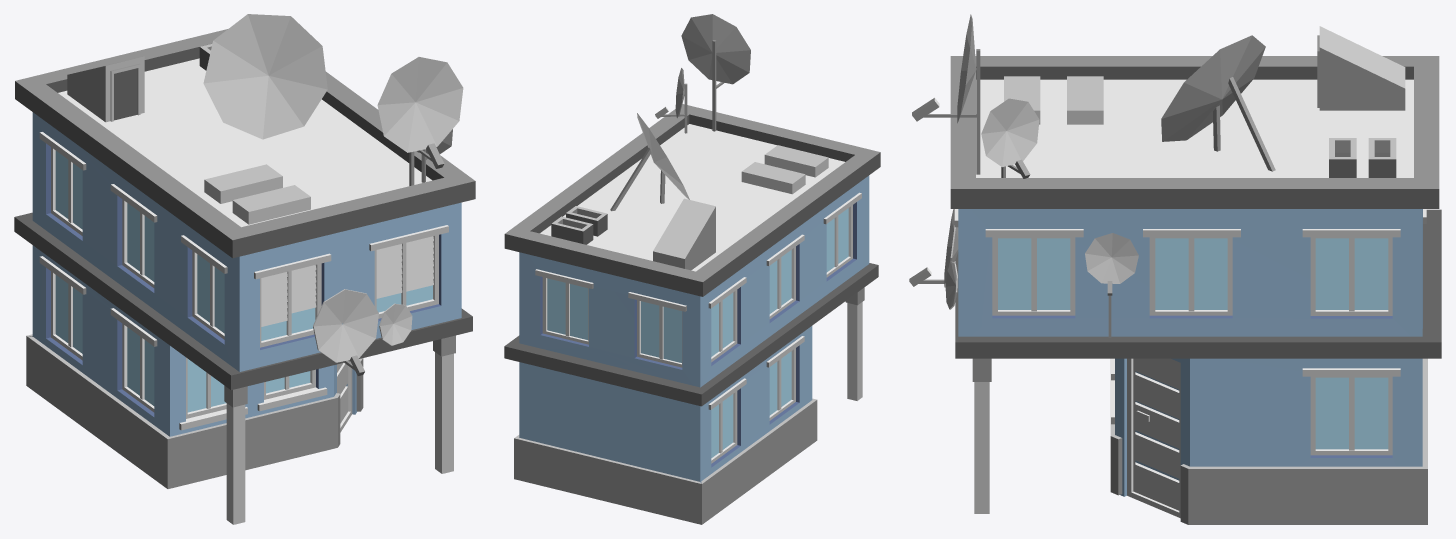
Rendered from house_purpose_009.fbx.
The picture shows the model from 3 angles, left to right: view 1: azimuth 30°, elevation 25°; view 2: azimuth 150°, elevation 25°; view 3: azimuth 270°, elevation 25°; orthographic projection. The views are drawn at different scales.
Visible parts, largest first — view 1: house_purpose_009; view 2: house_purpose_009; view 3: house_purpose_009.
Boxes of the visible parts, x1=… form: house_purpose_009: x1=14, y1=14, x2=475, y2=524; house_purpose_009: x1=504, y1=14, x2=880, y2=524; house_purpose_009: x1=909, y1=14, x2=1441, y2=524.
Size of the model in its own units: 525 by 838 by 832.
